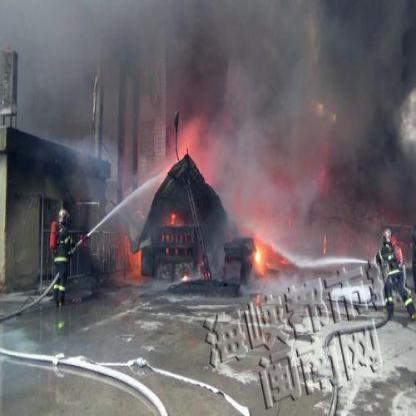smoke: (310, 1, 415, 218)
